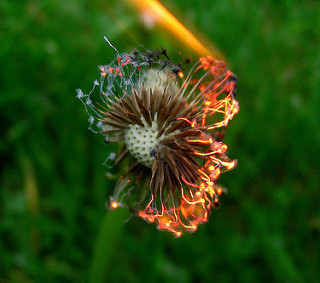dandelion: (72, 42, 245, 241)
